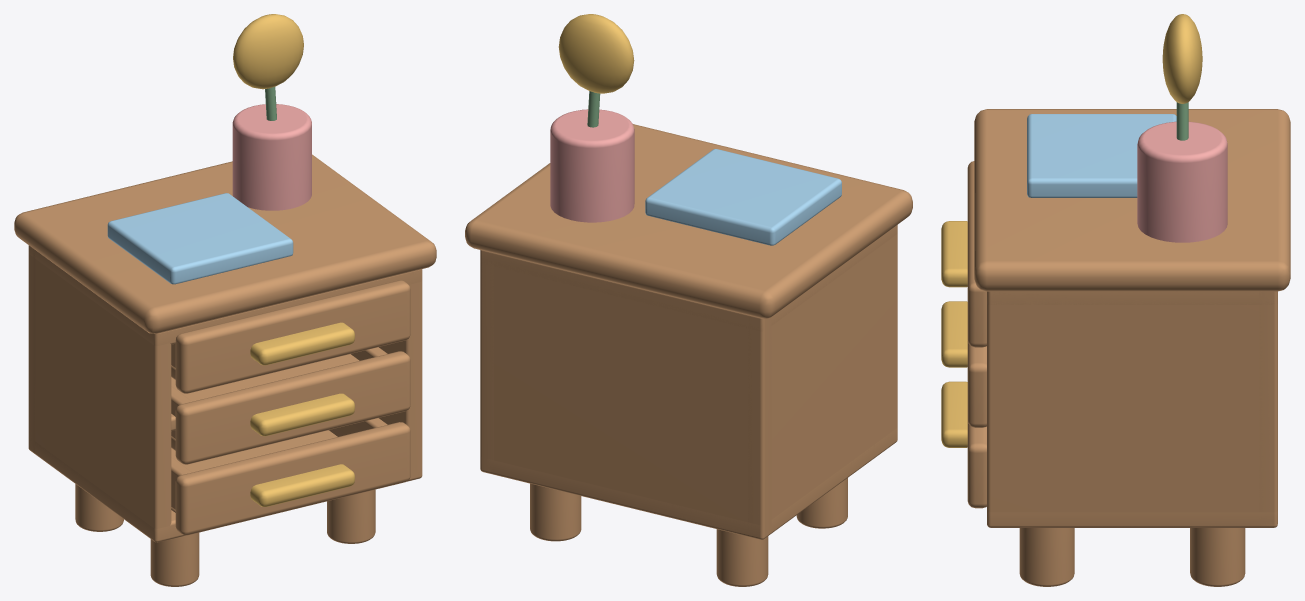
File: bedroomNightstand.glb
3 views of the same model, side by side, from view 1: azimuth 30°, elevation 25°; view 2: azimuth 150°, elevation 25°; view 3: azimuth 270°, elevation 25° (orthographic). The views are drawn at different scales.
Visible parts, largest first — view 1: Rounded cabinet top, Storage inner side, Drawer face, Drawer face.001, Drawer face.002, Bedside book, Small ceramic vase, Little flower, Storage inner side.001, Storage inner floor.001, Brass handle.002, Brass handle.001 (+8 smaller); view 2: Storage inner back, Rounded cabinet top, Storage inner side, Bedside book, Small ceramic vase, Storage inner floor, Little flower, Storage inner floor.001, Storage inner side.001, Furniture foot.001, Furniture foot.003, Furniture foot; view 3: Storage inner side.001, Rounded cabinet top, Small ceramic vase, Bedside book, Storage inner floor, Storage inner back, Storage inner floor.001, Furniture foot.003, Furniture foot.002, Little flower, Drawer face.002, Brass handle.002 (+5 smaller).
Boxes of the visible parts, bbox=[...] form: Rounded cabinet top: bbox=[14, 154, 436, 333]; Storage inner side: bbox=[28, 259, 171, 542]; Drawer face: bbox=[175, 422, 410, 535]; Drawer face.001: bbox=[175, 351, 410, 464]; Drawer face.002: bbox=[175, 280, 410, 393]; Bedside book: bbox=[107, 193, 293, 284]; Small ceramic vase: bbox=[232, 104, 311, 210]; Little flower: bbox=[233, 14, 303, 89]; Storage inner side.001: bbox=[379, 271, 422, 478]; Storage inner floor.001: bbox=[28, 245, 422, 345]; Brass handle.002: bbox=[250, 322, 354, 365]; Brass handle.001: bbox=[250, 393, 354, 436]; Storage inner back: bbox=[480, 253, 771, 539]; Rounded cabinet top: bbox=[465, 124, 912, 318]; Storage inner side: bbox=[748, 234, 897, 539]; Bedside book: bbox=[645, 149, 841, 245]; Small ceramic vase: bbox=[550, 109, 634, 222]; Storage inner floor: bbox=[480, 428, 897, 539]; Little flower: bbox=[558, 14, 634, 93]; Storage inner floor.001: bbox=[480, 225, 897, 331]; Storage inner side.001: bbox=[480, 257, 493, 472]; Furniture foot.001: bbox=[716, 529, 768, 586]; Furniture foot.003: bbox=[530, 483, 581, 541]; Furniture foot: bbox=[796, 478, 847, 528]; Storage inner side.001: bbox=[987, 291, 1277, 527]; Rounded cabinet top: bbox=[974, 109, 1290, 291]; Small ceramic vase: bbox=[1137, 121, 1227, 242]; Bedside book: bbox=[1027, 114, 1176, 197]; Storage inner floor: bbox=[987, 511, 1277, 527]; Storage inner back: bbox=[1259, 291, 1277, 527]; Storage inner floor.001: bbox=[987, 291, 1277, 304]; Furniture foot.003: bbox=[1190, 528, 1245, 586]; Furniture foot.002: bbox=[1019, 528, 1074, 586]; Little flower: bbox=[1162, 14, 1202, 103]; Drawer face.002: bbox=[967, 161, 986, 347]; Brass handle.002: bbox=[941, 221, 967, 287].
Bounding box in the file's own units: 0.76 × 1.2 × 0.6955.
